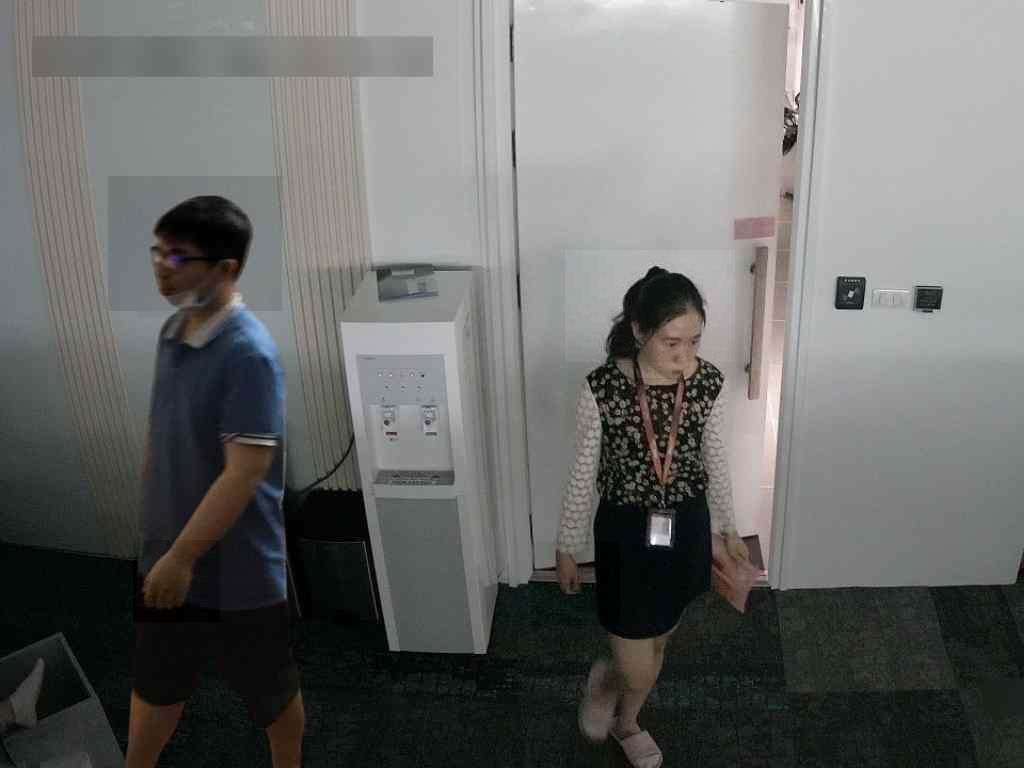no_apron: (531, 541, 620, 626), (134, 541, 220, 623)
no_gloves: (108, 176, 282, 311), (566, 251, 736, 363)
no_hairnet: (137, 221, 233, 317), (638, 296, 704, 378)
